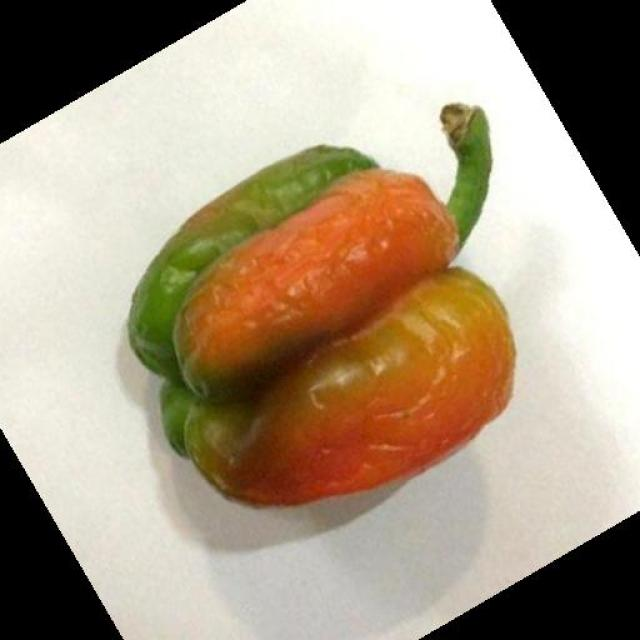Stale_Capsicum: (131, 95, 524, 503)
